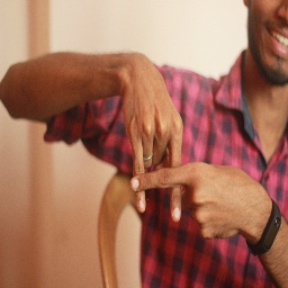H: (120, 127, 206, 230)
